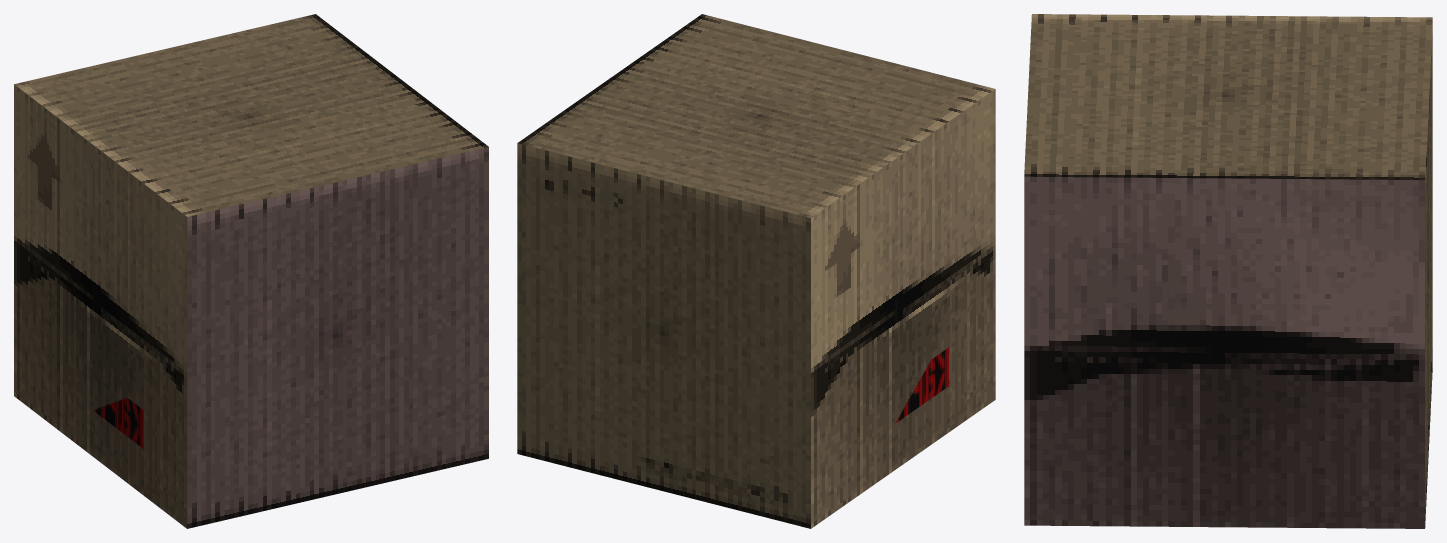
Rendered from primary_109.glb.
3 renders of one model, left to right at view 1: azimuth 30°, elevation 25°; view 2: azimuth 150°, elevation 25°; view 3: azimuth 270°, elevation 25°, orthographic. The views are drawn at different scales.
Visible parts, largest first — view 1: Object; view 2: Object; view 3: Object.
Boxes of the visible parts, x1,y1,x2,y2 form: Object: [14, 14, 488, 528]; Object: [517, 14, 995, 528]; Object: [1024, 14, 1432, 528].
Bounding box in the file's own units: 1.09 × 1.07 × 1.14.
7 materials, 7 textured.
